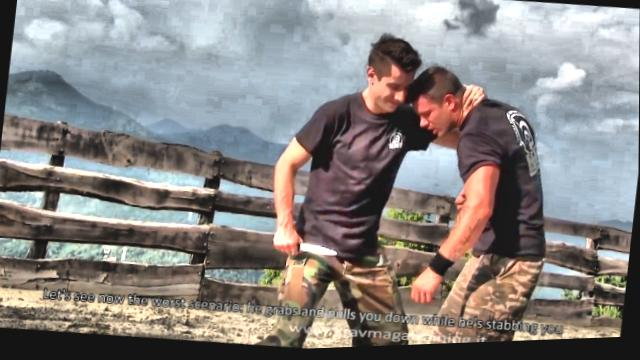knife: (269, 234, 345, 266)
